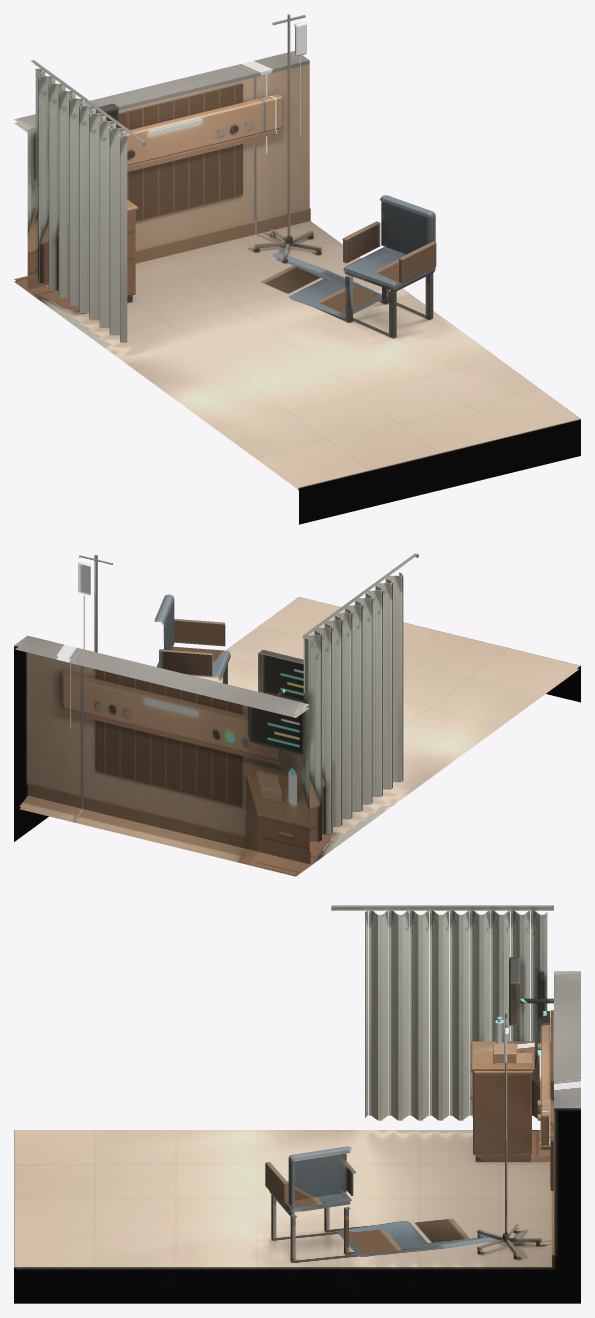
File: bay-spine.glb
3 renders of one model, top to bottom at view 1: azimuth 30°, elevation 25°; view 2: azimuth 150°, elevation 25°; view 3: azimuth 270°, elevation 25°, orthographic.
Parts seen in each view (by area): view 1: baySpine; view 2: baySpine; view 3: baySpine.
Boxes of the visible parts, x1=… form: baySpine: x1=14, y1=14, x2=580, y2=524; baySpine: x1=14, y1=553, x2=580, y2=876; baySpine: x1=14, y1=905, x2=580, y2=1303.
Size of the model in its own units: 2.4 by 2.2 by 4.2.
1 material, 1 textured.
